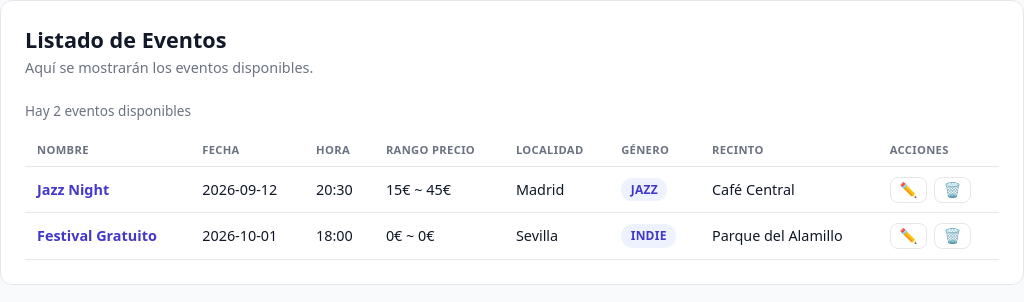
Test: EventList › delete (inline confirmation, no browser dialogs) › deletes and removes the row when the confirmation is accepted
Click the button named "Eliminar Jazz Night". click: (952, 190)
box: x1=934 y1=177 x2=971 y2=203
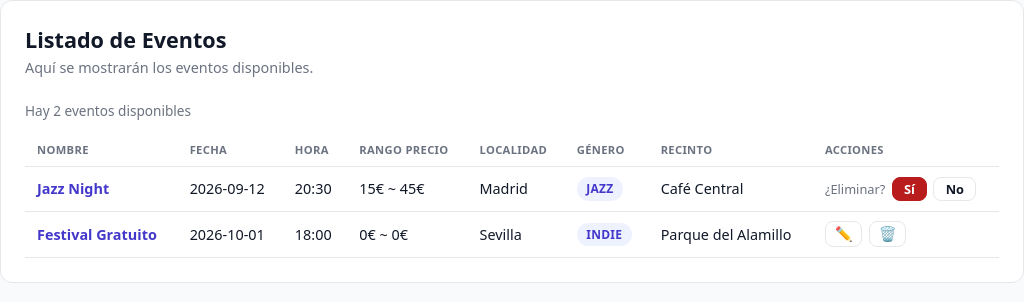
Click the button with aria-label "Confirmar eliminación de Jazz Night". click: (909, 189)
box: x1=892 y1=177 x2=927 y2=201
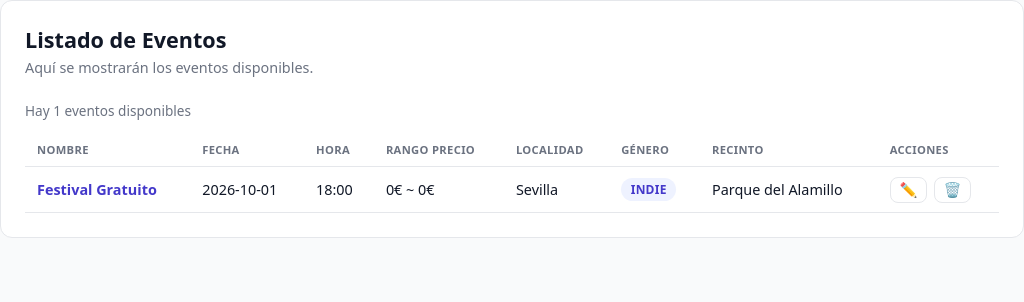
Expected: the link "Jazz Night" is gone
Expected: the text "Hay 1 eventos disponibles" is shown, x1=25 y1=101 x2=191 y2=120
